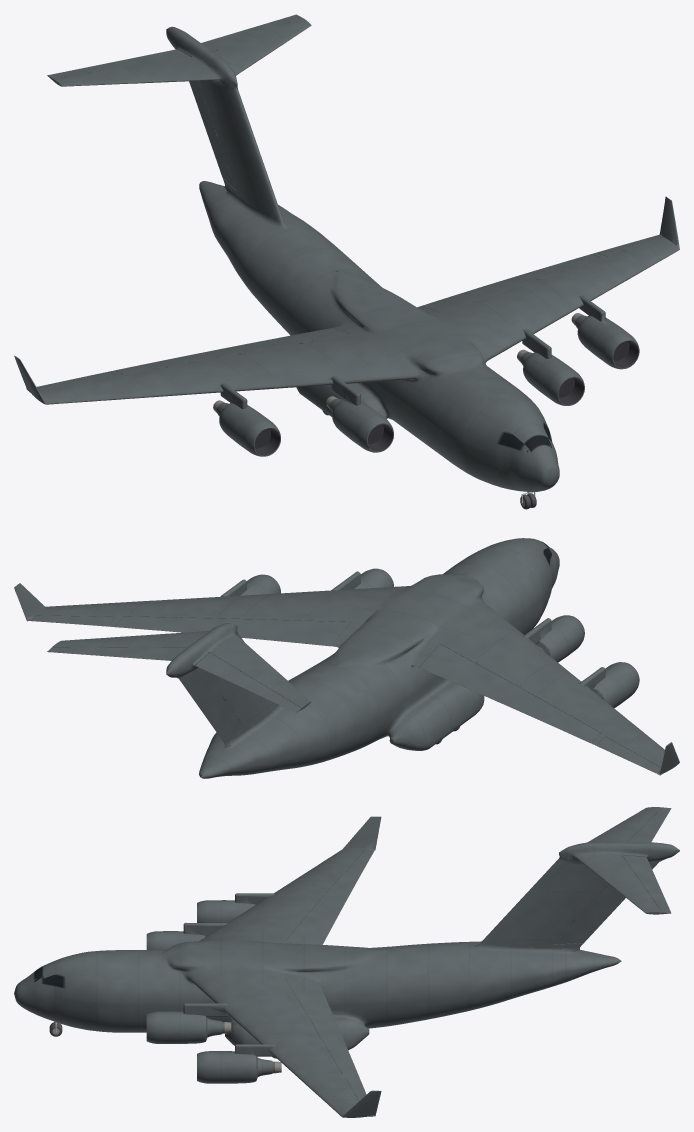
3 renders of one model, top to bottom at view 1: azimuth 30°, elevation 25°; view 2: azimuth 150°, elevation 25°; view 3: azimuth 270°, elevation 25°, orthographic. The views are drawn at different scales.
Visible parts, largest first — view 1: airframe, fsim:flaps (×2), fsim:elevator (×2), fsim:rudder; view 2: airframe, fsim:flaps (×2), fsim:elevator (×2), fsim:rudder, fsim:aileron (×2); view 3: airframe, fsim:flaps (×2), fsim:rudder, fsim:elevator (×2).
Part boxes in pixels (left/top/right/bottom): airframe: left=14, top=17, right=679, bottom=491; fsim:flaps (×2): left=114, top=254, right=600, bottom=374; fsim:elevator (×2): left=47, top=14, right=301, bottom=79; fsim:rudder: left=189, top=81, right=236, bottom=190; airframe: left=14, top=538, right=679, bottom=778; fsim:flaps (×2): left=114, top=616, right=600, bottom=743; fsim:elevator (×2): left=47, top=647, right=301, bottom=712; fsim:rudder: left=178, top=667, right=243, bottom=740; fsim:aileron (×2): left=31, top=615, right=660, bottom=773; airframe: left=14, top=807, right=679, bottom=1117; fsim:flaps (×2): left=285, top=874, right=359, bottom=1077; fsim:rudder: left=553, top=861, right=659, bottom=944; fsim:elevator (×2): left=622, top=807, right=671, bottom=914.
Size of the model in its own units: 51.8 by 16.87 by 53.04.
Materials: 6 (1 with a texture image).
